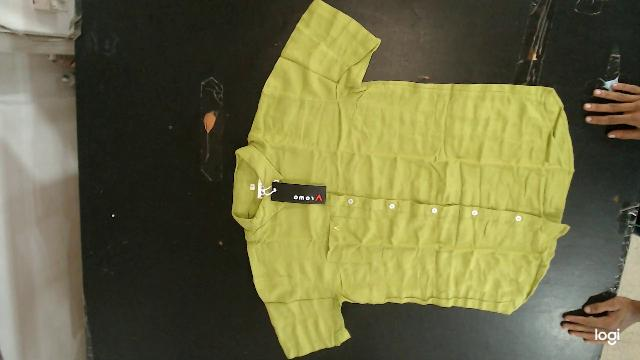new-garment: (232, 0, 573, 358)
